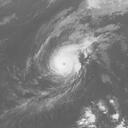cyclone: (47, 50, 80, 76)
